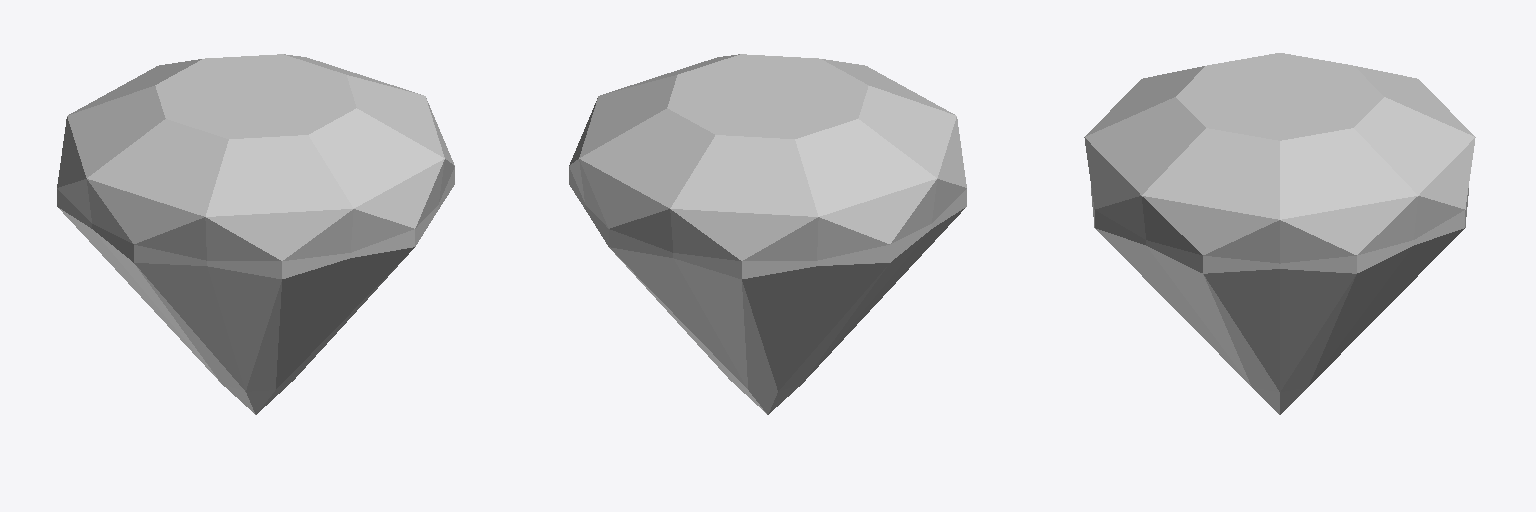
The model's file is diamond.obj.
3 renders of one model, left to right at view 1: azimuth 30°, elevation 25°; view 2: azimuth 150°, elevation 25°; view 3: azimuth 270°, elevation 25°, orthographic.
Visible parts, largest first — view 1: Cylinder; view 2: Cylinder; view 3: Cylinder.
Boxes of the visible parts, x1=… form: Cylinder: x1=57, y1=54, x2=454, y2=414; Cylinder: x1=569, y1=54, x2=966, y2=414; Cylinder: x1=1084, y1=53, x2=1475, y2=414.
Bounding box in the file's own units: 1.8 × 1.62 × 1.8.